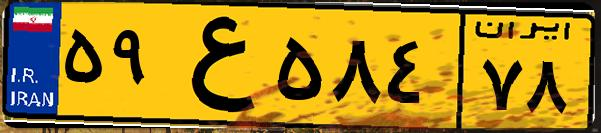4: (385, 28, 445, 110)
5: (270, 28, 330, 110), (57, 26, 110, 100)
7: (475, 38, 525, 113)
8: (330, 28, 385, 110), (525, 38, 570, 115)
9: (110, 28, 158, 98)
ع: (158, 12, 270, 120)
